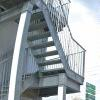stairs: (18, 4, 71, 75)
